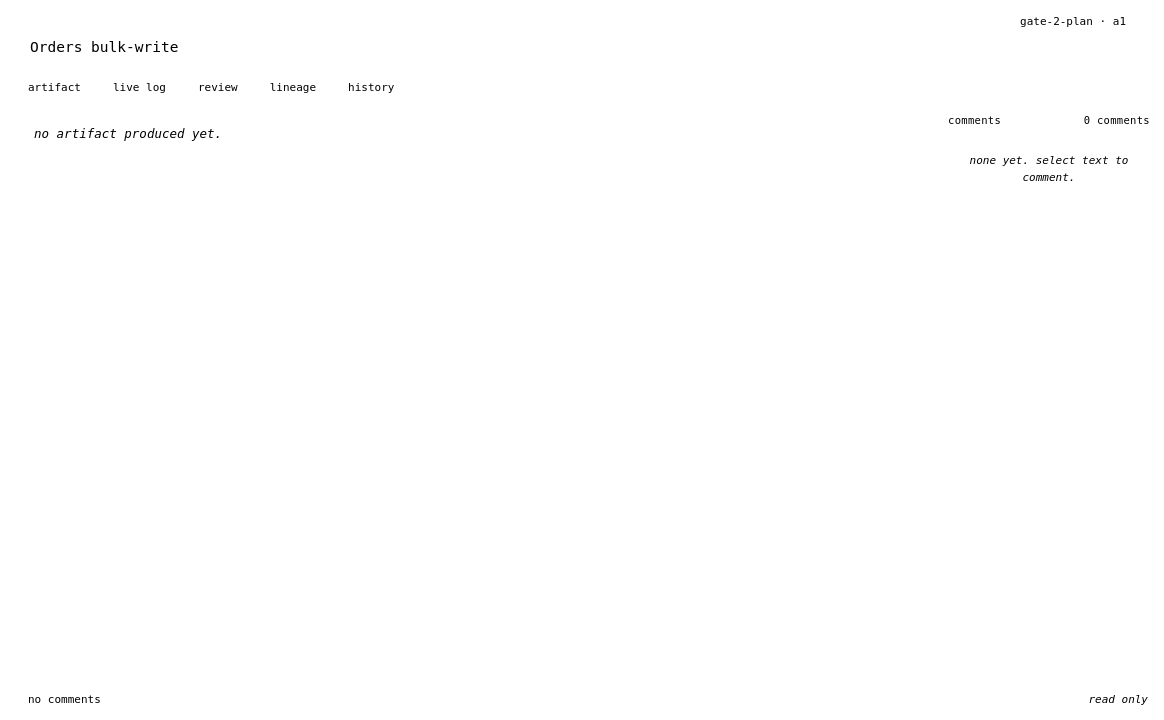
Test: CardDrawer › shows a streaming caret in the live log while running with output (S1)
The image size is (1164, 720).
Click the tab "live log". click: click(140, 88)
box: left=97, top=72, right=182, bottom=103
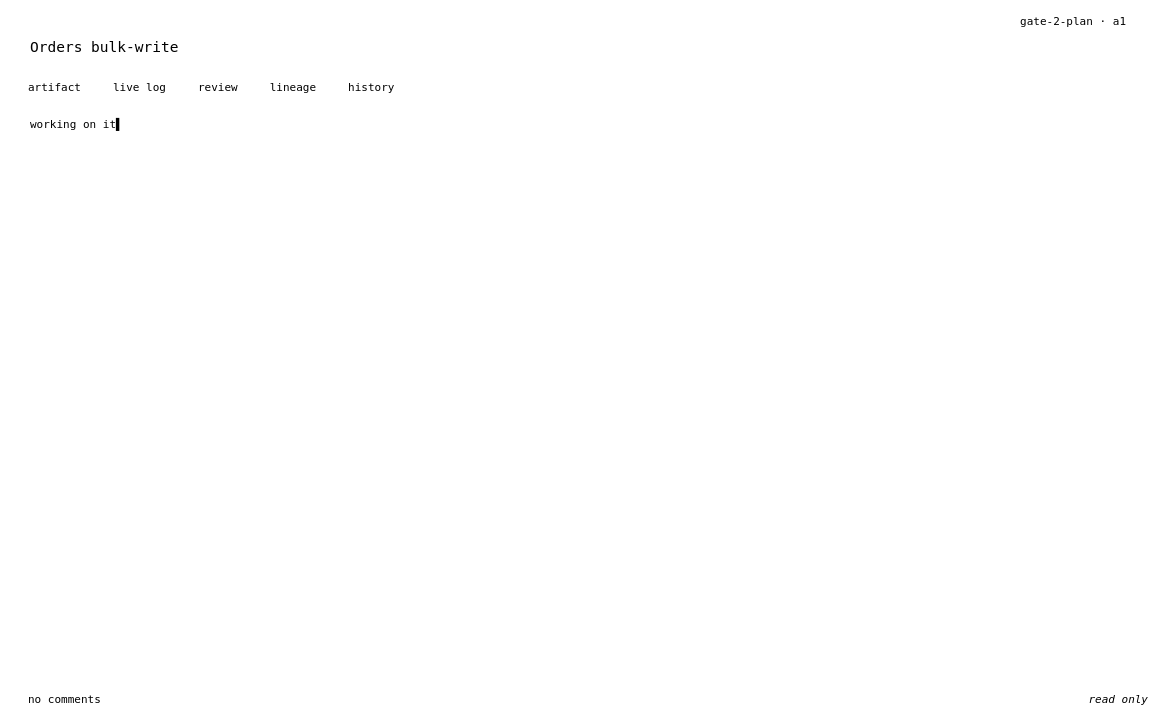
Expected: the element with test id "live-log" shows "working on it", left=30, top=118, right=116, bottom=131
